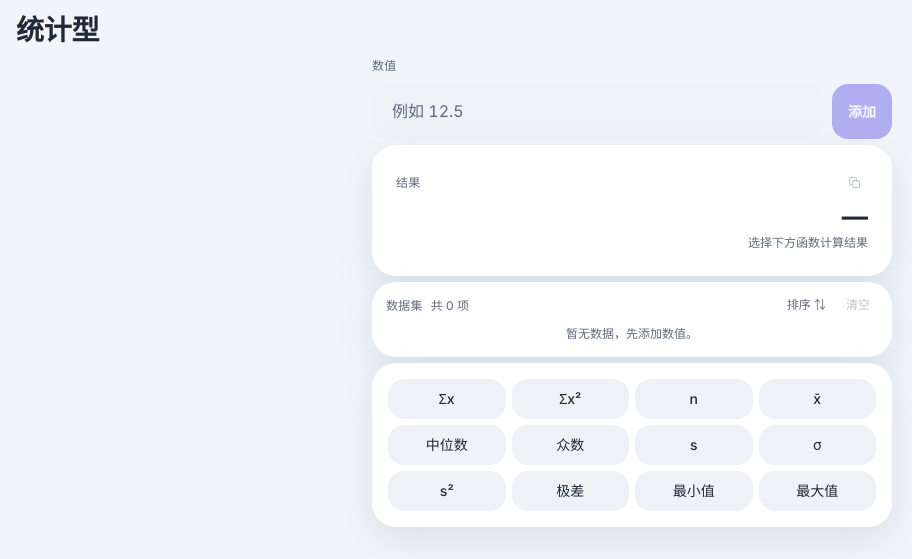
Scenario: StatisticsPage › explains empty-set and single-value domain errors
Later steps or results of the test are not shown.
Click the button with aria-label "求和". click: {"x": 447, "y": 398}
box: [388,378,506,418]
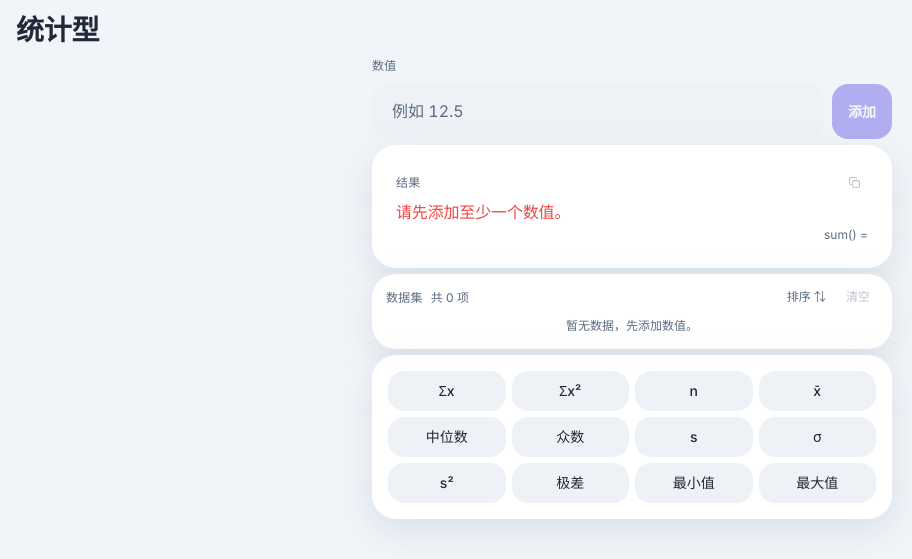
expect the text with test id "stats-result" reads "请先添加至少一个数值。": met, box [396,202,570,222]
